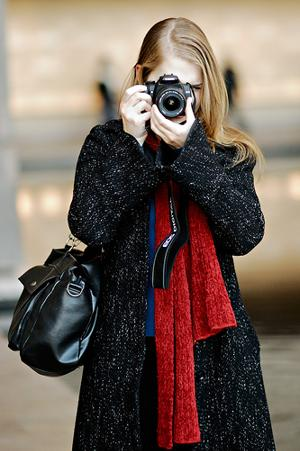person: (68, 17, 277, 451)
